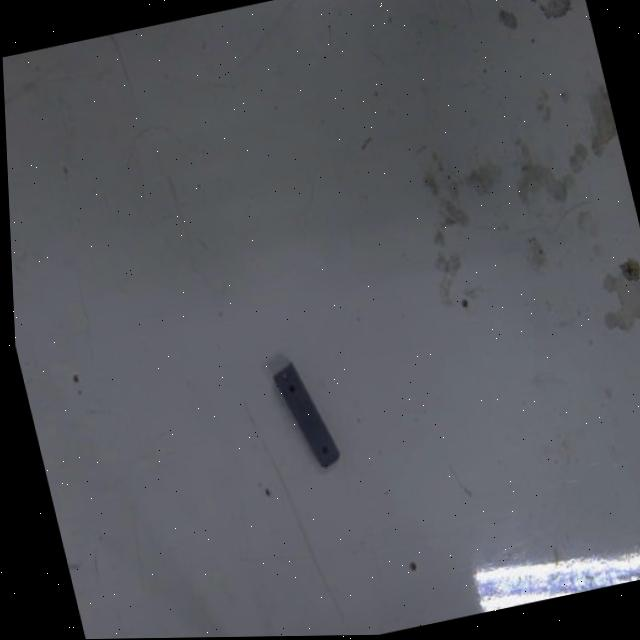grey: (266, 351, 341, 479)
head: (320, 444, 329, 455)
